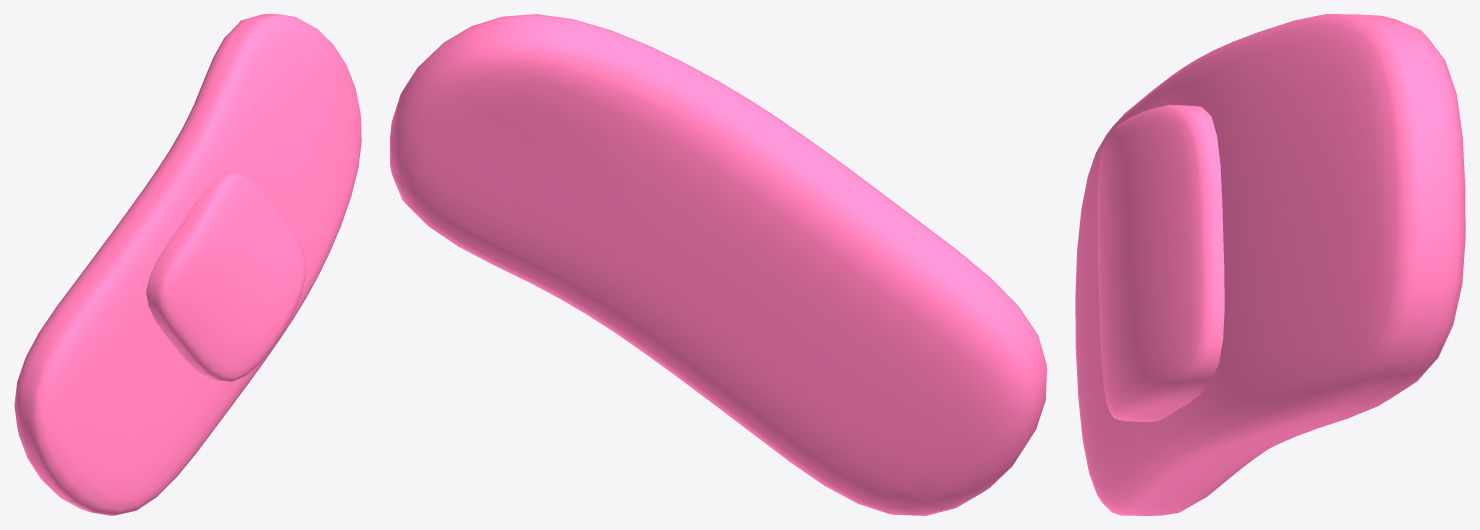
Rendered from Band.glb.
3 renders of one model, left to right at view 1: azimuth 30°, elevation 25°; view 2: azimuth 150°, elevation 25°; view 3: azimuth 270°, elevation 25°, orthographic. The views are drawn at different scales.
Visible parts, largest first — view 1: Cube, Cube 2; view 2: Cube; view 3: Cube, Cube 2.
Boxes of the visible parts, x1=… form: Cube: x1=14, y1=14, x2=361, y2=515; Cube 2: x1=146, y1=172, x2=305, y2=382; Cube: x1=390, y1=14, x2=1046, y2=515; Cube: x1=1075, y1=14, x2=1465, y2=515; Cube 2: x1=1097, y1=104, x2=1224, y2=421.
Size of the model in its own units: 0.2305 by 0.2013 by 0.1085.
